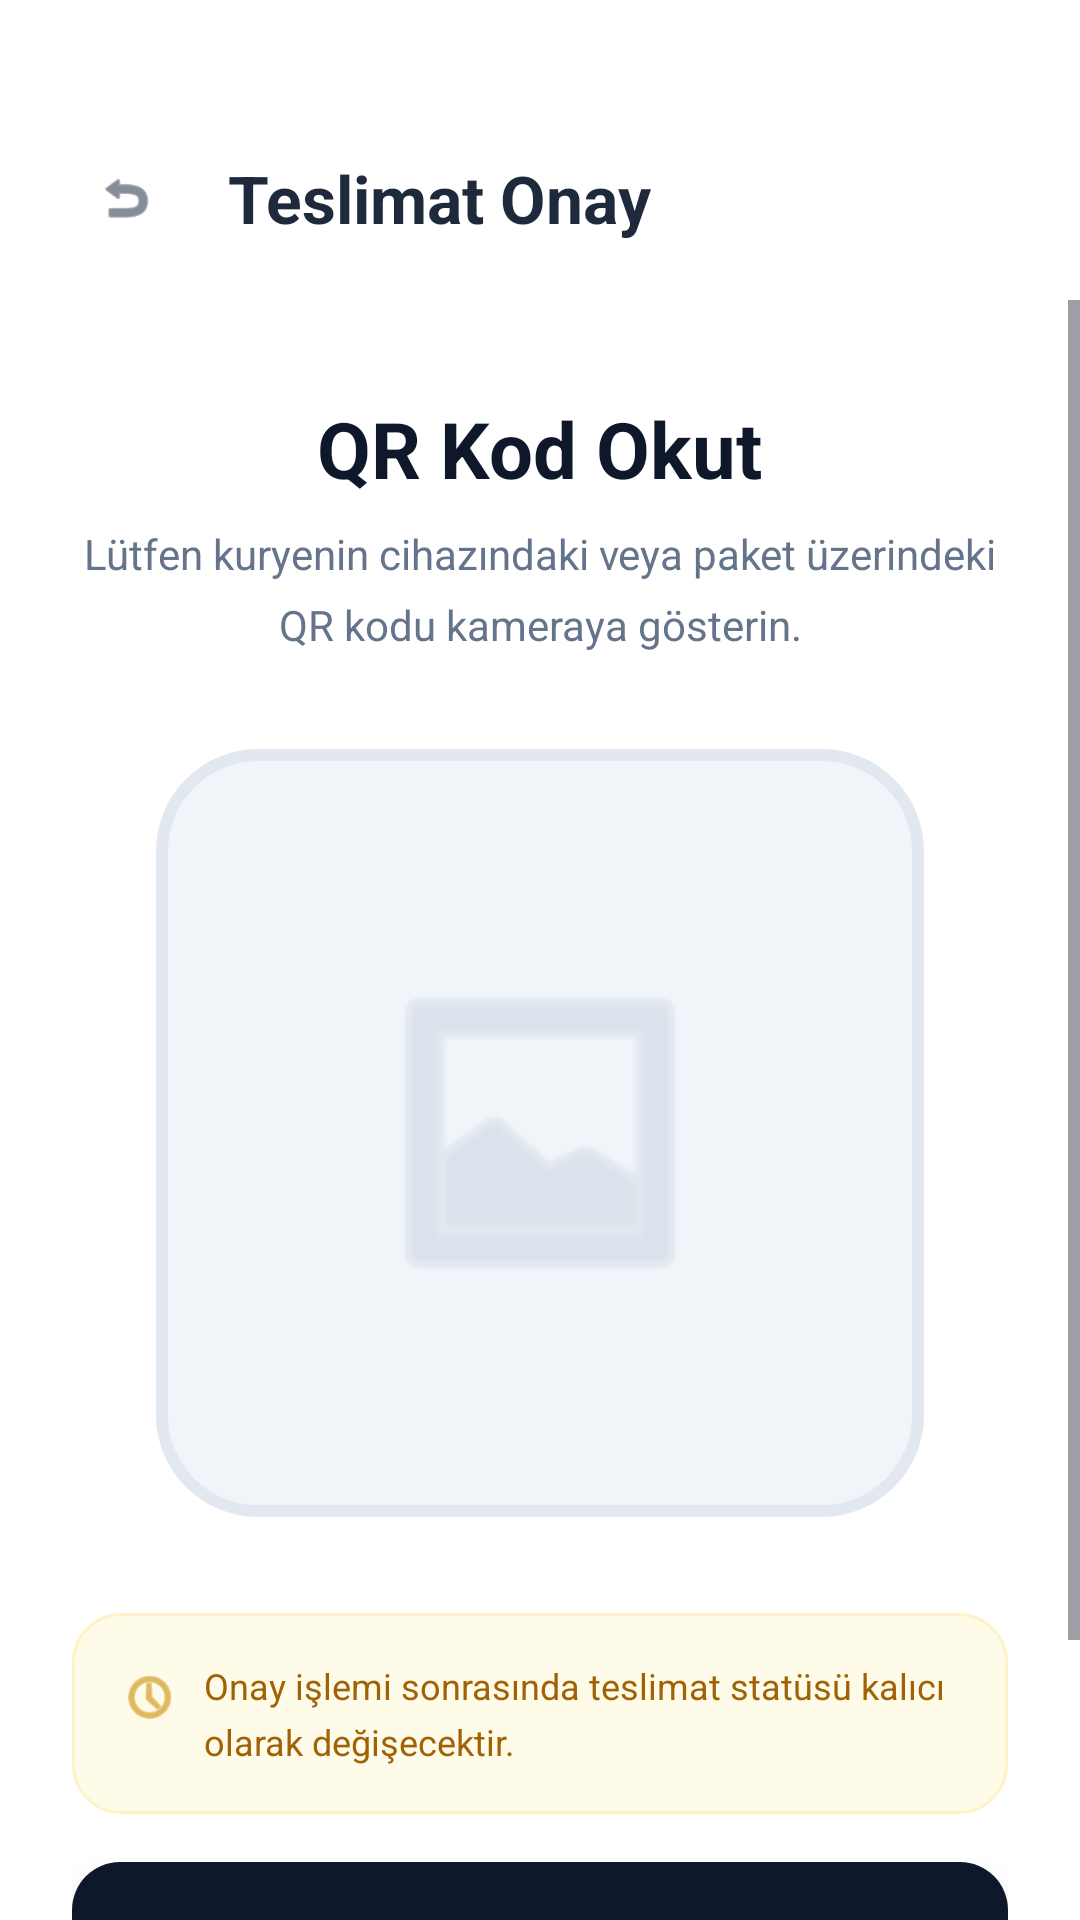

Icon click points for this 1080 × 1920 phone screenshot, format (x=x, y=y):
recent history: (x=149, y=1697)
revert: (x=126, y=198)
